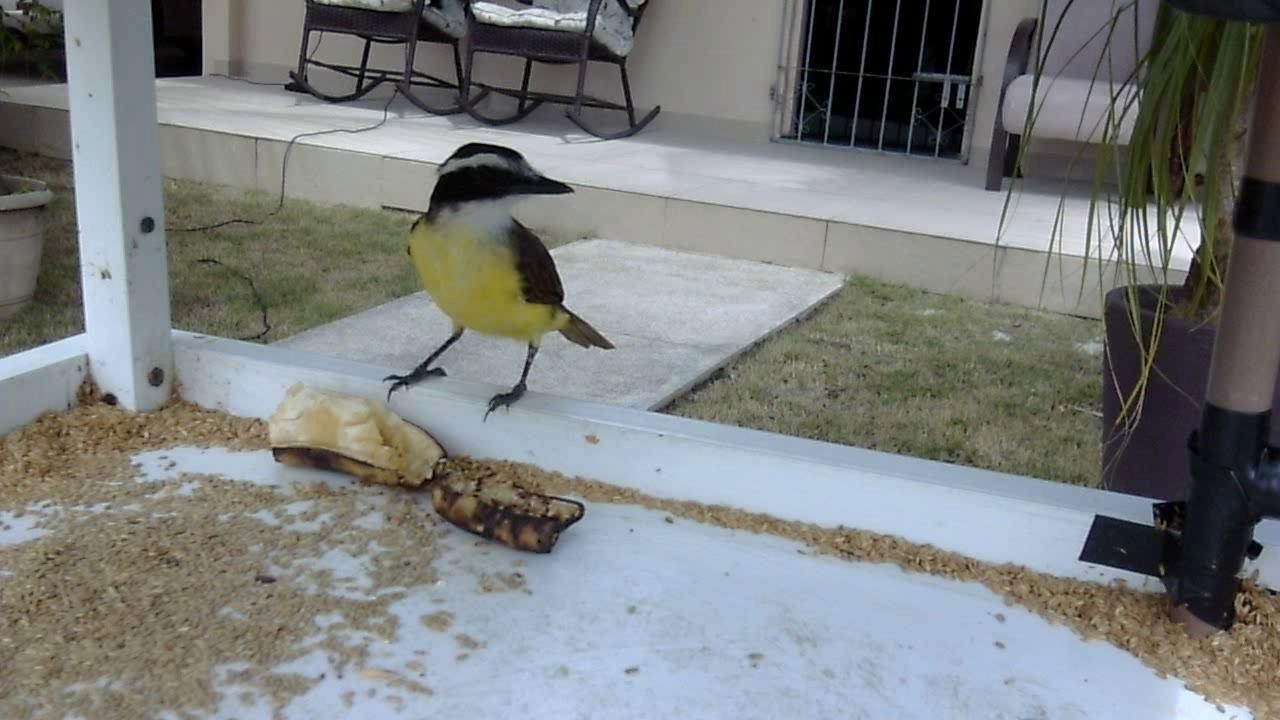bem_te_vi: (373, 140, 621, 434)
